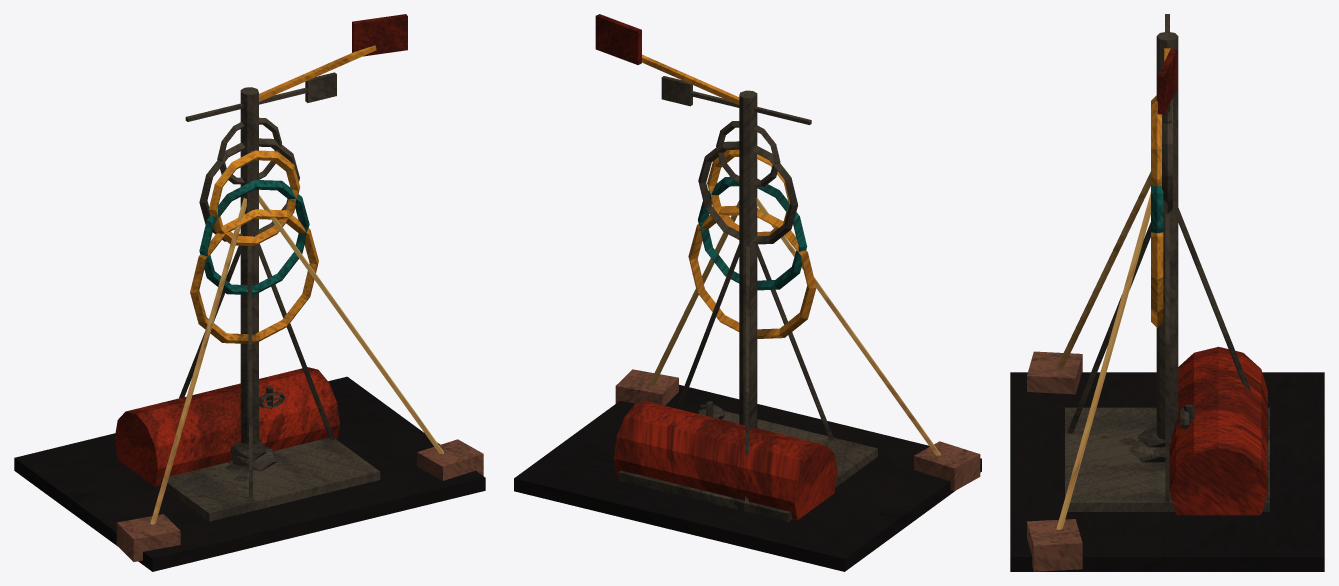
Rendered from east-wind-anchor.glb.
3 views of the same model, side by side, from view 1: azimuth 30°, elevation 25°; view 2: azimuth 150°, elevation 25°; view 3: azimuth 270°, elevation 25° (orthographic). The views are drawn at different scales.
Parts seen in each view (by area): view 1: east-wind-anchor; view 2: east-wind-anchor; view 3: east-wind-anchor.
Part boxes in pixels (<box>): east-wind-anchor: <box>14,14,485,571</box>; east-wind-anchor: <box>514,14,981,571</box>; east-wind-anchor: <box>1010,14,1324,571</box>.
Size of the model in its own units: 6.73 by 8.01 by 4.6.
1 material, 1 textured.
